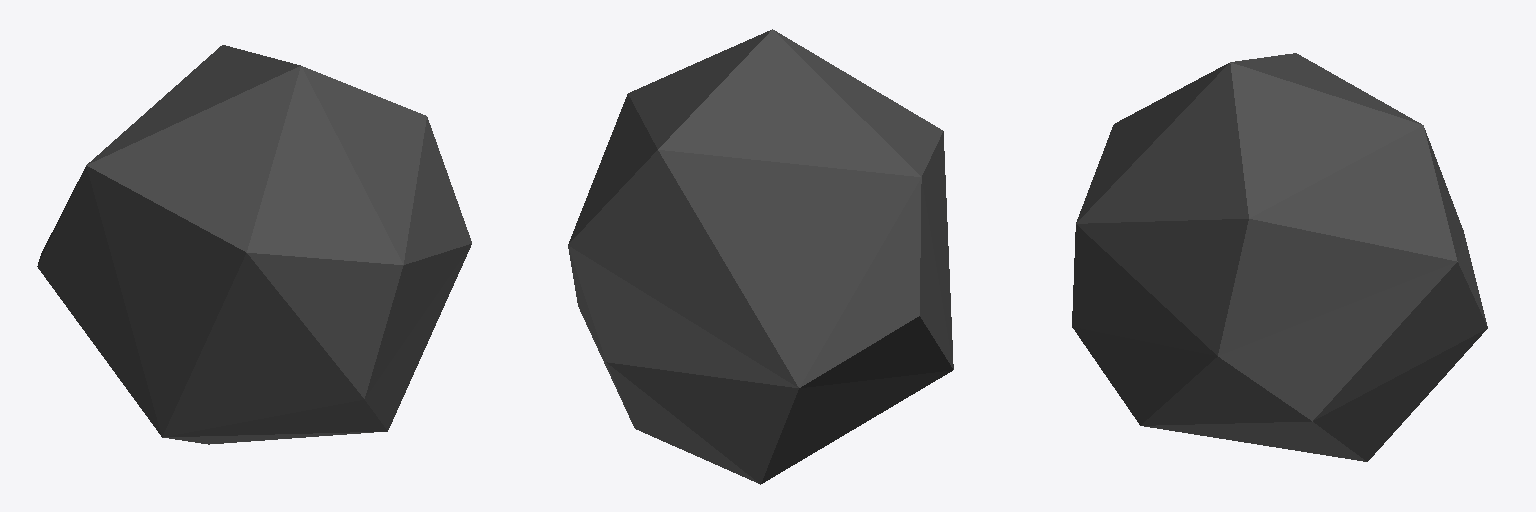
The model's file is rock.obj.
3 views of the same model, side by side, from view 1: azimuth 30°, elevation 25°; view 2: azimuth 150°, elevation 25°; view 3: azimuth 270°, elevation 25° (orthographic).
Parts seen in each view (by area): view 1: Mesh; view 2: Mesh; view 3: Mesh.
Boxes of the visible parts, <box> form: Mesh: <box>37,45,471,444</box>; Mesh: <box>568,29,953,484</box>; Mesh: <box>1072,53,1487,461</box>.
Bounding box in the file's own units: 2 × 2.1 × 1.94.